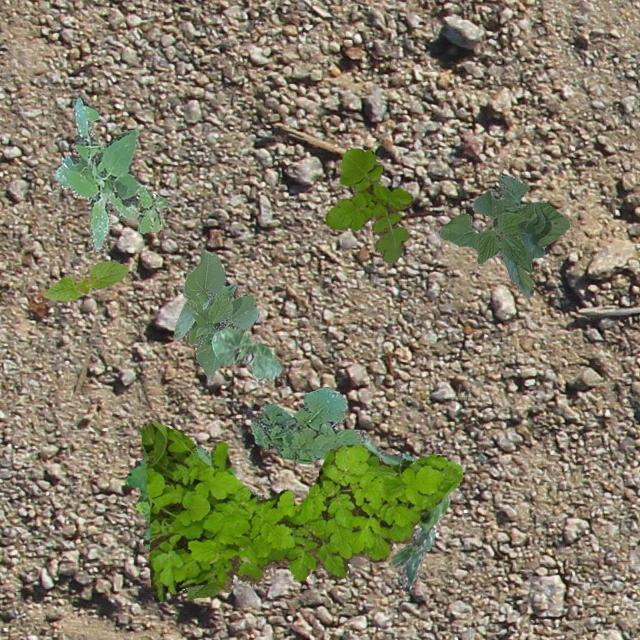crop: (438, 174, 568, 296), (361, 436, 448, 590), (172, 252, 258, 378), (210, 326, 282, 380), (42, 260, 128, 300), (187, 580, 220, 600)
weed: (140, 420, 462, 602), (54, 97, 168, 250), (124, 442, 234, 548), (324, 148, 409, 262), (250, 387, 364, 462)
